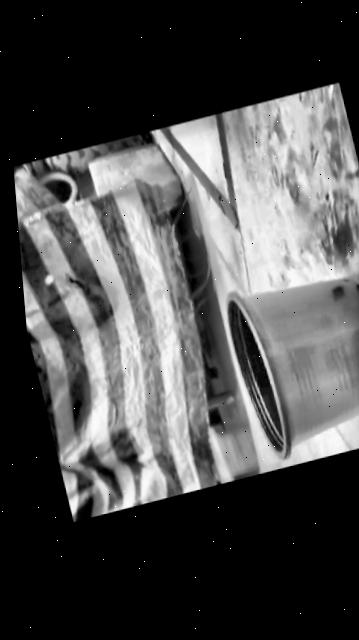pot: (215, 253, 359, 469)
